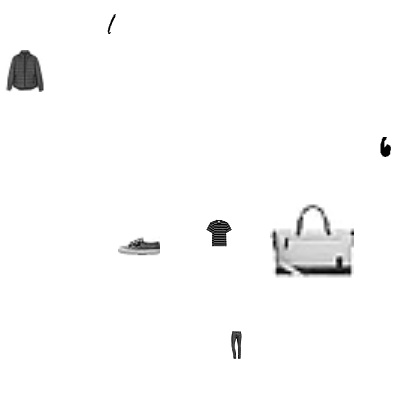0: (44, 171, 156, 283), (21, 357, 63, 399)
2: (387, 352, 401, 366)
4: (80, 52, 122, 94)
9: (308, 65, 364, 121), (327, 45, 341, 59)
Pullover: (198, 166, 212, 180)
Sandal: (190, 85, 274, 169)
Sneaker: (153, 202, 181, 230)
